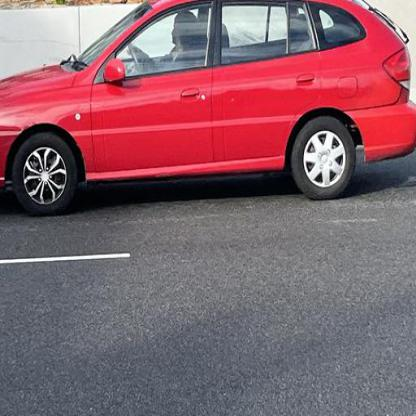Tire: (13, 132, 78, 215), (292, 117, 356, 199)
